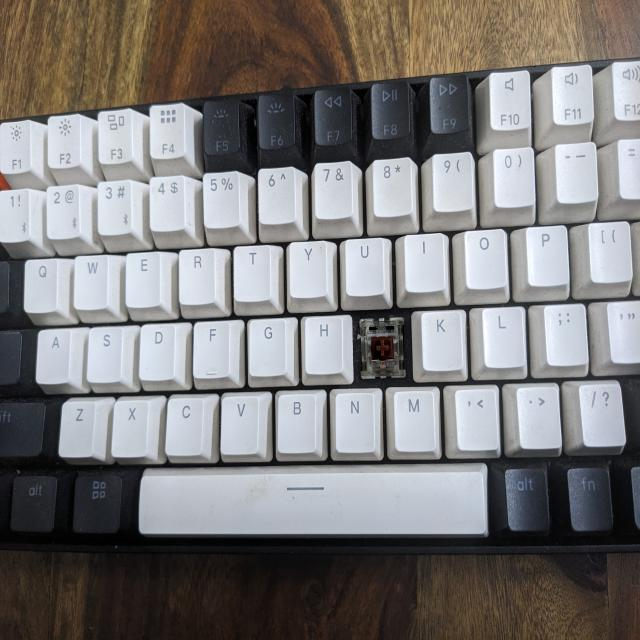C: (361, 321, 404, 376)
